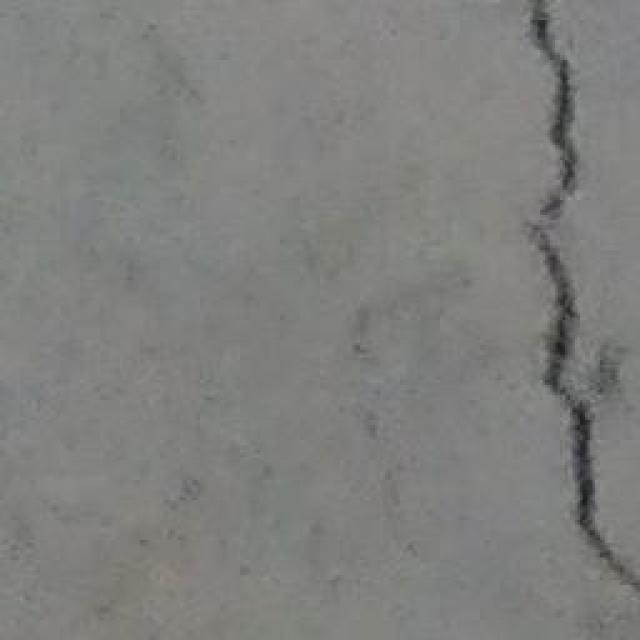Longitudinal: (499, 0, 640, 640)
